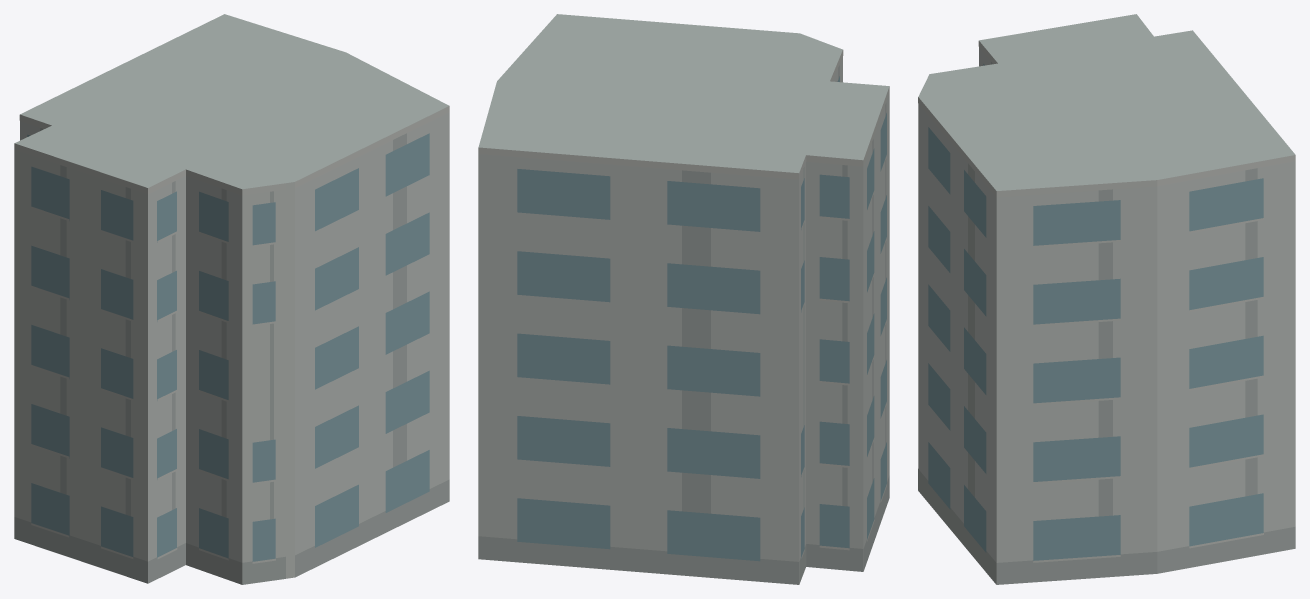
The model's file is survey-upis-32842293.glb.
3 views of the same model, side by side, from view 1: azimuth 30°, elevation 25°; view 2: azimuth 150°, elevation 25°; view 3: azimuth 270°, elevation 25° (orthographic). The views are drawn at different scales.
Visible parts, largest first — view 1: survey-upis-32842293.tmp; view 2: survey-upis-32842293.tmp; view 3: survey-upis-32842293.tmp.
Part boxes in pixels (x1,y1,x2,y2): survey-upis-32842293.tmp: [14, 14, 449, 584]; survey-upis-32842293.tmp: [478, 14, 889, 584]; survey-upis-32842293.tmp: [918, 14, 1295, 584].
Size of the model in its own units: 14.67 by 15.2 by 13.21.
